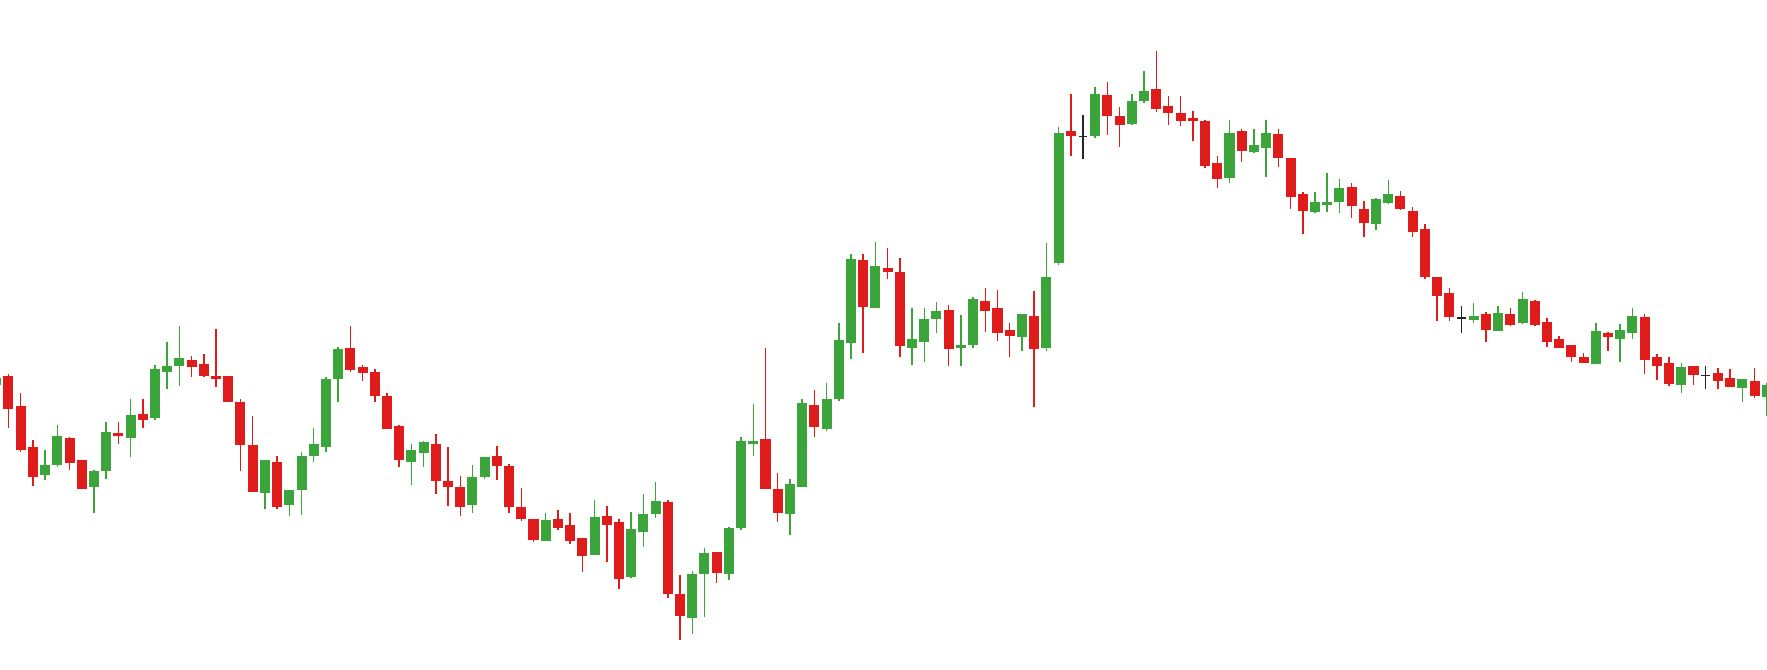buy: (941, 305, 1041, 414), (613, 527, 699, 637)
